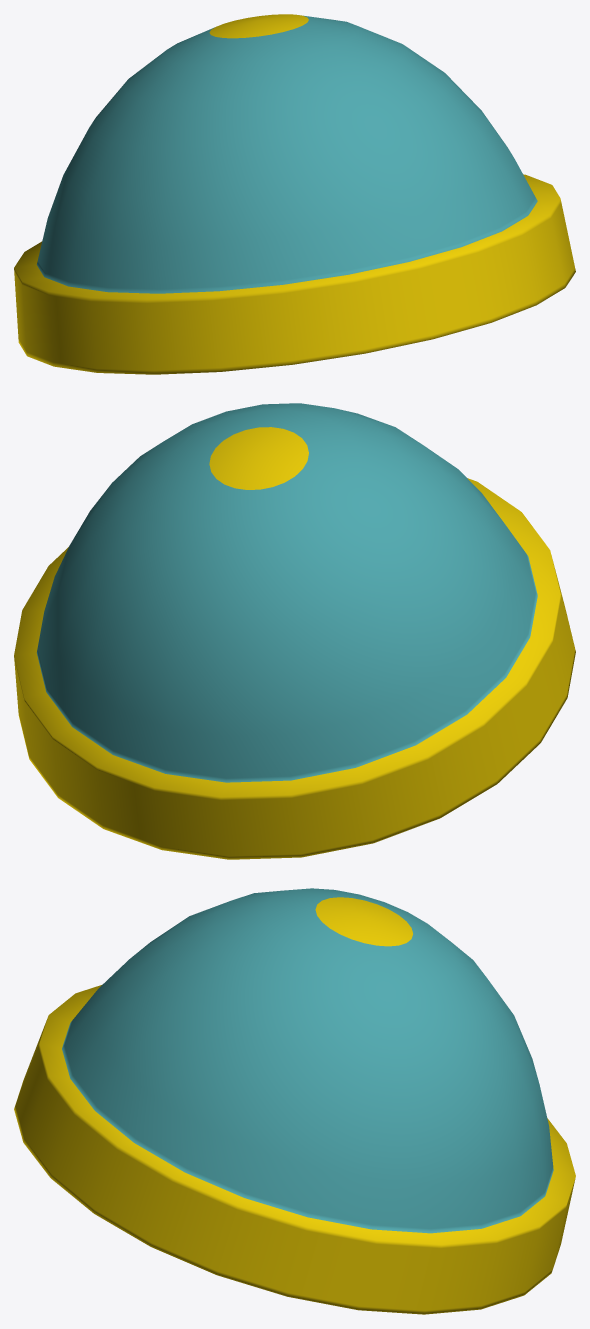
The model's file is Head_Beanie_Blue.fbx.
3 views of the same model, one above another, from view 1: azimuth 30°, elevation 25°; view 2: azimuth 150°, elevation 25°; view 3: azimuth 270°, elevation 25° (orthographic).
Visible parts, largest first — view 1: Head_Beanie_Blue; view 2: Head_Beanie_Blue; view 3: Head_Beanie_Blue.
Part boxes in pixels (x1,y1,x2,y2): Head_Beanie_Blue: (14,14,575,374); Head_Beanie_Blue: (14,403,575,859); Head_Beanie_Blue: (14,888,575,1314).
Bounding box in the file's own units: 105 × 68.24 × 104.
